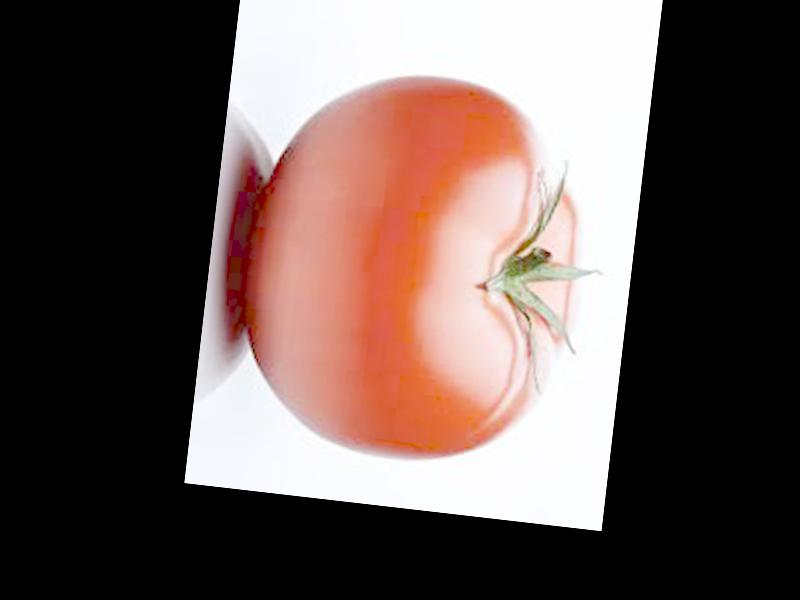Tomato: (232, 60, 598, 477)
